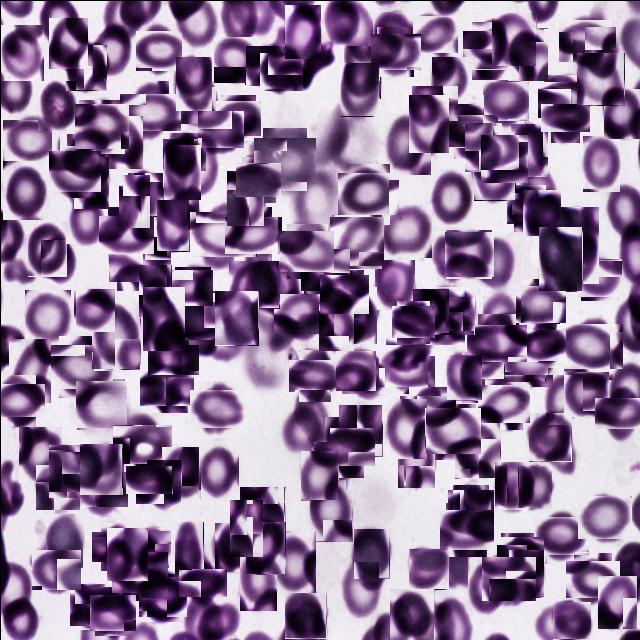red blood cell: (91, 300, 140, 369), (556, 206, 598, 283), (561, 318, 617, 374), (194, 206, 250, 262), (111, 232, 166, 286), (54, 339, 108, 393), (257, 132, 311, 186), (538, 226, 582, 291), (384, 112, 430, 174), (379, 203, 431, 257), (2, 160, 48, 219), (272, 530, 315, 593), (342, 168, 394, 220), (330, 215, 382, 267), (426, 404, 478, 456), (8, 338, 50, 402), (142, 286, 184, 350), (309, 479, 352, 541), (454, 420, 499, 478), (428, 168, 472, 226), (5, 114, 56, 164), (576, 52, 624, 105), (24, 289, 70, 344), (124, 86, 174, 136), (116, 418, 166, 468), (76, 101, 126, 151), (483, 552, 533, 602), (318, 422, 368, 472), (381, 340, 431, 389), (238, 486, 284, 539), (491, 12, 536, 66), (214, 290, 258, 345), (0, 24, 43, 80), (18, 426, 61, 482), (115, 547, 164, 596), (580, 492, 628, 542), (386, 398, 426, 458), (76, 378, 124, 428), (228, 258, 278, 306), (472, 318, 520, 368), (473, 143, 515, 200), (506, 335, 554, 384), (466, 26, 515, 74), (254, 263, 300, 314), (389, 588, 434, 640), (408, 94, 448, 152), (194, 384, 242, 432), (561, 16, 609, 64), (228, 210, 276, 258), (102, 210, 150, 258), (480, 134, 528, 182), (197, 442, 238, 498), (338, 404, 382, 456), (78, 443, 122, 495), (92, 23, 132, 80), (142, 361, 190, 408), (404, 390, 451, 438), (444, 230, 492, 277), (421, 291, 468, 339), (282, 227, 330, 274), (507, 27, 548, 81), (537, 512, 584, 559), (174, 291, 221, 338), (51, 148, 98, 195), (338, 284, 376, 342), (176, 140, 216, 195), (105, 527, 146, 580), (582, 135, 620, 192), (540, 77, 586, 124), (213, 36, 260, 82), (442, 506, 489, 552), (597, 575, 637, 629), (239, 552, 276, 610), (27, 221, 66, 276), (226, 170, 264, 226), (161, 446, 201, 499), (245, 521, 285, 574), (560, 368, 606, 414), (569, 556, 615, 602), (301, 246, 347, 292), (276, 290, 322, 336), (341, 561, 378, 618), (528, 412, 571, 461), (340, 62, 379, 116), (175, 73, 216, 124), (45, 513, 83, 568), (458, 354, 504, 399), (480, 380, 526, 425), (35, 464, 80, 510), (474, 238, 516, 287), (510, 123, 548, 177), (163, 144, 200, 199), (104, 115, 142, 168), (374, 259, 414, 309), (48, 17, 87, 68), (468, 561, 504, 616), (448, 108, 492, 153), (34, 546, 78, 591), (397, 436, 435, 488), (229, 499, 263, 557), (65, 195, 106, 243), (343, 45, 380, 98), (175, 56, 211, 110), (284, 4, 320, 58), (136, 28, 180, 72), (518, 282, 562, 326), (80, 466, 124, 510), (70, 584, 114, 628), (498, 534, 542, 578), (321, 272, 365, 316), (372, 29, 417, 72), (284, 592, 326, 638), (37, 80, 75, 130), (300, 450, 338, 500), (464, 122, 502, 172), (140, 574, 183, 618), (65, 44, 106, 90), (66, 133, 106, 180), (603, 88, 640, 138), (545, 374, 582, 424), (282, 407, 324, 451), (372, 11, 412, 57), (459, 489, 491, 546), (73, 156, 108, 208), (294, 389, 329, 441), (213, 522, 250, 571), (484, 79, 526, 122), (353, 528, 389, 578), (482, 295, 518, 345), (157, 186, 199, 228), (578, 256, 620, 298), (293, 354, 335, 396), (412, 12, 454, 54), (344, 354, 386, 396), (494, 461, 530, 510), (199, 108, 241, 150), (599, 392, 640, 435), (138, 264, 171, 317), (522, 189, 560, 235), (508, 549, 544, 597), (48, 444, 80, 498), (118, 174, 150, 228), (318, 303, 354, 351), (74, 288, 115, 330), (217, 96, 258, 138), (91, 590, 132, 632), (61, 450, 102, 492), (260, 50, 302, 91), (152, 338, 194, 379), (427, 546, 467, 589), (0, 379, 40, 422), (156, 199, 189, 251), (174, 521, 203, 580), (146, 459, 180, 509), (431, 56, 467, 103), (439, 287, 475, 334), (414, 82, 455, 123), (432, 235, 468, 281), (446, 354, 482, 400), (450, 487, 490, 528), (336, 349, 376, 390), (509, 188, 549, 228), (584, 26, 616, 76), (238, 159, 278, 199), (408, 548, 448, 588), (127, 172, 163, 216), (412, 288, 448, 332), (40, 239, 75, 284), (2, 596, 38, 639), (545, 98, 584, 137), (244, 46, 284, 84), (96, 526, 134, 566), (172, 268, 211, 306), (552, 601, 590, 639), (165, 135, 203, 173), (132, 528, 170, 566), (130, 460, 168, 498), (182, 563, 220, 601), (394, 302, 432, 340), (516, 465, 550, 507), (524, 326, 562, 363)
